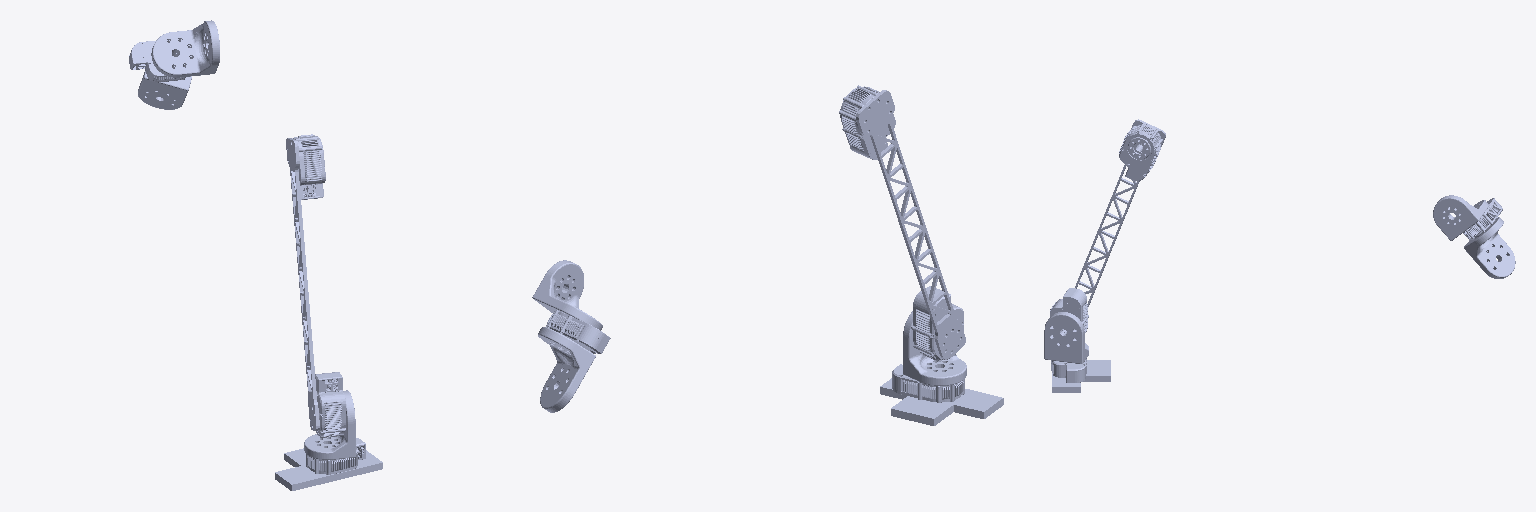
The robot description file, URDF, robot "Robot_assembly_gripper":
<?xml version="1.0" encoding="utf-8"?>
<!-- This URDF was automatically created by SolidWorks to URDF Exporter! Originally created by [author] ([email redacted]) 
     Commit Version: 1.6.0-1-g15f4949  Build Version: 1.6.7594.29634
     For more information, please see http://wiki.ros.org/sw_urdf_exporter -->
<robot
  name="Robot_assembly_gripper">
  <link
    name="base_link">
    <inertial>
      <origin
        xyz="0.267857494098026 0.134011022004072 0.0993771018542492"
        rpy="0 0 0" />
      <mass
        value="0.334978549466239" />
      <inertia
        ixx="0.000241093147767613"
        ixy="-4.51194118929295E-06"
        ixz="-5.1404451476027E-08"
        iyy="0.000463470554587157"
        iyz="-7.37057463032119E-08"
        izz="0.000692752126308934" />
    </inertial>
    <visual>
      <origin
        xyz="0 0 0"
        rpy="0 0 0" />
      <geometry>
        <mesh
          filename="package://basic134/meshes/base_link.STL" />
      </geometry>
      <material
        name="">
        <color
          rgba="0.792156862745098 0.819607843137255 0.933333333333333 1" />
      </material>
    </visual>
    <collision>
      <origin
        xyz="0 0 0"
        rpy="0 0 0" />
      <geometry>
        <mesh
          filename="package://basic134/meshes/base_link.STL" />
      </geometry>
    </collision>
  </link>
  <link
    name="link1">
    <inertial>
      <origin
        xyz="-0.000215974699123545 -0.000898328756616884 0.0160772624857307"
        rpy="0 0 0" />
      <mass
        value="0.408820372172434" />
      <inertia
        ixx="0.000337442602052258"
        ixy="1.2647095595665E-06"
        ixz="-5.59754092842708E-05"
        iyy="0.000365908027791502"
        iyz="1.66540333089424E-05"
        izz="0.000363778134561444" />
    </inertial>
    <visual>
      <origin
        xyz="0 0 0"
        rpy="0 0 0" />
      <geometry>
        <mesh
          filename="package://basic134/meshes/link1.STL" />
      </geometry>
      <material
        name="">
        <color
          rgba="0.792156862745098 0.819607843137255 0.933333333333333 1" />
      </material>
    </visual>
    <collision>
      <origin
        xyz="0 0 0"
        rpy="0 0 0" />
      <geometry>
        <mesh
          filename="package://basic134/meshes/link1.STL" />
      </geometry>
    </collision>
  </link>
  <joint
    name="link1"
    type="revolute">
    <origin
      xyz="0.2607 0.12618 0.11049"
      rpy="0 0 0" />
    <parent
      link="base_link" />
    <child
      link="link1" />
    <axis
      xyz="0 0 1" />
    <limit
      lower="0"
      upper="0"
      effort="0"
      velocity="0" />
  </joint>
  <link
    name="link2">
    <inertial>
      <origin
        xyz="-0.0092272068840536 -0.00086853648340196 0.0564152269571175"
        rpy="0 0 0" />
      <mass
        value="0.641026805757363" />
      <inertia
        ixx="0.000537404994155384"
        ixy="-6.60673300829398E-06"
        ixz="5.86491929414682E-05"
        iyy="0.00049633860154521"
        iyz="6.6066351399544E-06"
        izz="0.000453534999106879" />
    </inertial>
    <visual>
      <origin
        xyz="0 0 0"
        rpy="0 0 0" />
      <geometry>
        <mesh
          filename="package://basic134/meshes/link2.STL" />
      </geometry>
      <material
        name="">
        <color
          rgba="0.792156862745098 0.819607843137255 0.933333333333333 1" />
      </material>
    </visual>
    <collision>
      <origin
        xyz="0 0 0"
        rpy="0 0 0" />
      <geometry>
        <mesh
          filename="package://basic134/meshes/link2.STL" />
      </geometry>
    </collision>
  </link>
  <joint
    name="link2"
    type="fixed">
    <origin
      xyz="-0.0079917 0.00146 -0.011902"
      rpy="0 0 2.8538" />
    <parent
      link="link1" />
    <child
      link="link2" />
    <axis
      xyz="0 0 0" />
  </joint>
  <link
    name="link3">
    <inertial>
      <origin
        xyz="0.0152250000000007 -0.2406794491969 1.22124532708767E-15"
        rpy="0 0 0" />
      <mass
        value="0.0767858474939284" />
      <inertia
        ixx="0.00238516903039351"
        ixy="6.83650879640786E-18"
        ixz="5.42101086242752E-20"
        iyy="1.9180269485857E-05"
        iyz="-1.31023311073988E-07"
        izz="0.00236650479379691" />
    </inertial>
    <visual>
      <origin
        xyz="0 0 0"
        rpy="0 0 0" />
      <geometry>
        <mesh
          filename="package://basic134/meshes/link3.STL" />
      </geometry>
      <material
        name="">
        <color
          rgba="0.792156862745098 0.819607843137255 0.933333333333333 1" />
      </material>
    </visual>
    <collision>
      <origin
        xyz="0 0 0"
        rpy="0 0 0" />
      <geometry>
        <mesh
          filename="package://basic134/meshes/link3.STL" />
      </geometry>
    </collision>
  </link>
  <joint
    name="link3"
    type="revolute">
    <origin
      xyz="-7.7434E-05 -0.0008686 0.091902"
      rpy="-1.2203 0 0" />
    <parent
      link="link2" />
    <child
      link="link3" />
    <axis
      xyz="-1 0 0" />
    <limit
      lower="0"
      upper="0"
      effort="0"
      velocity="0" />
  </joint>
  <link
    name="link4">
    <inertial>
      <origin
        xyz="-0.0188514962883433 0.0938525862880993 -0.00122065965756527"
        rpy="0 0 0" />
      <mass
        value="0.308992204303723" />
      <inertia
        ixx="0.00258352619779536"
        ixy="-2.48879834899467E-07"
        ixz="-8.01819495875166E-08"
        iyy="0.000108937112554982"
        iyz="6.55543308158493E-06"
        izz="0.00249854049340643" />
    </inertial>
    <visual>
      <origin
        xyz="0 0 0"
        rpy="0 0 0" />
      <geometry>
        <mesh
          filename="package://basic134/meshes/link4.STL" />
      </geometry>
      <material
        name="">
        <color
          rgba="0.792156862745098 0.819607843137255 0.933333333333333 1" />
      </material>
    </visual>
    <collision>
      <origin
        xyz="0 0 0"
        rpy="0 0 0" />
      <geometry>
        <mesh
          filename="package://basic134/meshes/link4.STL" />
      </geometry>
    </collision>
  </link>
  <joint
    name="link4"
    type="fixed">
    <origin
      xyz="0.015225 -0.4775 0"
      rpy="0 0 0" />
    <parent
      link="link3" />
    <child
      link="link4" />
    <axis
      xyz="0 0 0" />
  </joint>
  <link
    name="link5">
    <inertial>
      <origin
        xyz="-0.194609657811397 -0.357306199284931 5.6621374255883E-15"
        rpy="0 0 0" />
      <mass
        value="0.0927282298042747" />
      <inertia
        ixx="0.00521684059122845"
        ixy="3.85696452532246E-18"
        ixz="-1.0842021724855E-19"
        iyy="2.3218055140328E-05"
        iyz="-1.9073169877161E-08"
        izz="0.00519424570842917" />
    </inertial>
    <visual>
      <origin
        xyz="0 0 0"
        rpy="0 0 0" />
      <geometry>
        <mesh
          filename="package://basic134/meshes/link5.STL" />
      </geometry>
      <material
        name="">
        <color
          rgba="0.792156862745098 0.819607843137255 0.933333333333333 1" />
      </material>
    </visual>
    <collision>
      <origin
        xyz="0 0 0"
        rpy="0 0 0" />
      <geometry>
        <mesh
          filename="package://basic134/meshes/link5.STL" />
      </geometry>
    </collision>
  </link>
  <joint
    name="link5"
    type="revolute">
    <origin
      xyz="0.14321 0.032 0"
      rpy="1.3414 0 0" />
    <parent
      link="link4" />
    <child
      link="link5" />
    <axis
      xyz="1 0 0" />
    <limit
      lower="0"
      upper="0"
      effort="0"
      velocity="0" />
  </joint>
  <link
    name="link6">
    <inertial>
      <origin
        xyz="0.0115000077719721 0.147438539818429 0.00112235859195009"
        rpy="0 0 0" />
      <mass
        value="0.252230038604757" />
      <inertia
        ixx="0.00535054298205387"
        ixy="-5.14033129248475E-08"
        ixz="-7.37078627787525E-08"
        iyy="7.97914651847604E-05"
        iyz="-4.59409130374559E-06"
        izz="0.00527865595451417" />
    </inertial>
    <visual>
      <origin
        xyz="0 0 0"
        rpy="0 0 0" />
      <geometry>
        <mesh
          filename="package://basic134/meshes/link6.STL" />
      </geometry>
      <material
        name="">
        <color
          rgba="0.792156862745098 0.819607843137255 0.933333333333333 1" />
      </material>
    </visual>
    <collision>
      <origin
        xyz="0 0 0"
        rpy="0 0 0" />
      <geometry>
        <mesh
          filename="package://basic134/meshes/link6.STL" />
      </geometry>
    </collision>
  </link>
  <joint
    name="link6"
    type="fixed">
    <origin
      xyz="-0.19461 -0.6775 0"
      rpy="0 0 0" />
    <parent
      link="link5" />
    <child
      link="link6" />
    <axis
      xyz="0 0 0" />
  </joint>
  <link
    name="link7">
    <inertial>
      <origin
        xyz="-0.000130288534892165 0.000920790745066791 0.0354068170810037"
        rpy="0 0 0" />
      <mass
        value="0.409613397509596" />
      <inertia
        ixx="0.000339928573716477"
        ixy="-6.68632878896225E-06"
        ixz="5.88061853623033E-05"
        iyy="0.000365197077247767"
        iyz="-8.02558084709898E-08"
        izz="0.000364462468927118" />
    </inertial>
    <visual>
      <origin
        xyz="0 0 0"
        rpy="0 0 0" />
      <geometry>
        <mesh
          filename="package://basic134/meshes/link7.STL" />
      </geometry>
      <material
        name="">
        <color
          rgba="0.792156862745098 0.819607843137255 0.933333333333333 1" />
      </material>
    </visual>
    <collision>
      <origin
        xyz="0 0 0"
        rpy="0 0 0" />
      <geometry>
        <mesh
          filename="package://basic134/meshes/link7.STL" />
      </geometry>
    </collision>
  </link>
  <joint
    name="link7"
    type="revolute">
    <origin
      xyz="0 0.032 0"
      rpy="1.5708 -0.70524 1.5708" />
    <parent
      link="link6" />
    <child
      link="link7" />
    <axis
      xyz="0 0 1" />
    <limit
      lower="0"
      upper="0"
      effort="0"
      velocity="0" />
  </joint>
  <link
    name="link8">
    <inertial>
      <origin
        xyz="-0.0235886510111271 0.000291555465911086 0.0501755583891659"
        rpy="0 0 0" />
      <mass
        value="0.569115198233791" />
      <inertia
        ixx="0.000473630955707207"
        ixy="-6.61262137680022E-06"
        ixz="5.88575893414097E-05"
        iyy="0.000449607313720566"
        iyz="-4.65527624133826E-06"
        izz="0.000421035879959335" />
    </inertial>
    <visual>
      <origin
        xyz="0 0 0"
        rpy="0 0 0" />
      <geometry>
        <mesh
          filename="package://basic134/meshes/link8.STL" />
      </geometry>
      <material
        name="">
        <color
          rgba="0.792156862745098 0.819607843137255 0.933333333333333 1" />
      </material>
    </visual>
    <collision>
      <origin
        xyz="0 0 0"
        rpy="0 0 0" />
      <geometry>
        <mesh
          filename="package://basic134/meshes/link8.STL" />
      </geometry>
    </collision>
  </link>
  <joint
    name="link8"
    type="fixed">
    <origin
      xyz="0.0080774 0.0008686 0.0073225"
      rpy="0 0 0" />
    <parent
      link="link7" />
    <child
      link="link8" />
    <axis
      xyz="0 0 0" />
  </joint>
  <link
    name="link9">
    <inertial>
      <origin
        xyz="-0.00013027915729813 0.000920791172653312 0.0803092442556865"
        rpy="0 0 0" />
      <mass
        value="0.409613320666264" />
      <inertia
        ixx="0.000339928492220774"
        ixy="-6.68637100854192E-06"
        ixz="5.88062087022453E-05"
        iyy="0.000365197131396319"
        iyz="-8.02731373553025E-08"
        izz="0.000364462456256996" />
    </inertial>
    <visual>
      <origin
        xyz="0 0 0"
        rpy="0 0 0" />
      <geometry>
        <mesh
          filename="package://basic134/meshes/link9.STL" />
      </geometry>
      <material
        name="">
        <color
          rgba="0.792156862745098 0.819607843137255 0.933333333333333 1" />
      </material>
    </visual>
    <collision>
      <origin
        xyz="0 0 0"
        rpy="0 0 0" />
      <geometry>
        <mesh
          filename="package://basic134/meshes/link9.STL" />
      </geometry>
    </collision>
  </link>
  <joint
    name="link9"
    type="revolute">
    <origin
      xyz="0 -0.0008686 0.091902"
      rpy="-1.5708 0.40899 1.5708" />
    <parent
      link="link8" />
    <child
      link="link9" />
    <axis
      xyz="0 0 1" />
    <limit
      lower="0"
      upper="0"
      effort="0"
      velocity="0" />
  </joint>
  <link
    name="link10">
    <inertial>
      <origin
        xyz="-0.00323354099177331 -0.00392762942961489 -0.00361444135571398"
        rpy="0 0 0" />
      <mass
        value="2.05264806100588" />
      <inertia
        ixx="0.00102424628669426"
        ixy="-3.22645731448597E-05"
        ixz="-5.92808550746498E-05"
        iyy="0.00116807049539813"
        iyz="3.76130461632427E-05"
        izz="0.0016508265788843" />
    </inertial>
    <visual>
      <origin
        xyz="0 0 0"
        rpy="0 0 0" />
      <geometry>
        <mesh
          filename="package://basic134/meshes/link10.STL" />
      </geometry>
      <material
        name="">
        <color
          rgba="0.752941176470588 0.752941176470588 0.752941176470588 1" />
      </material>
    </visual>
    <collision>
      <origin
        xyz="0 0 0"
        rpy="0 0 0" />
      <geometry>
        <mesh
          filename="package://basic134/meshes/link10.STL" />
      </geometry>
    </collision>
  </link>
  <joint
    name="link10"
    type="fixed">
    <origin
      xyz="-0.055 0 0.14413"
      rpy="3.1416 -1.5708 0" />
    <parent
      link="link9" />
    <child
      link="link10" />
    <axis
      xyz="0 0 0" />
  </joint>
</robot>

--- Facts derived from the render (not from the file) ---
The picture shows the robot from 3 angles, left to right: view 1: azimuth 30°, elevation 25°; view 2: azimuth 150°, elevation 25°; view 3: azimuth 270°, elevation 25°; orthographic projection.
Robot: Robot_assembly_gripper — 11 links, 10 joints (5 revolute, 5 fixed); root link base_link; default pose: every joint at zero.
Visible links, largest first — view 1: link8, base_link, link3, link2, link4, link9, link1; view 2: link3, base_link, link8, link2, link9, link4; view 3: link8, link2, link4, link9, base_link, link3, link1.
Link boxes in pixels (<box>): link8: <box>129,20,219,82</box>; base_link: <box>275,438,382,490</box>; link3: <box>286,138,319,430</box>; link2: <box>304,372,354,452</box>; link4: <box>287,134,325,428</box>; link9: <box>138,69,191,109</box>; link1: <box>305,397,355,459</box>; link3: <box>856,90,965,359</box>; base_link: <box>880,364,1003,425</box>; link8: <box>532,260,610,353</box>; link2: <box>903,286,966,385</box>; link9: <box>538,327,595,412</box>; link4: <box>839,85,957,349</box>; link8: <box>1433,195,1502,240</box>; link2: <box>1045,288,1088,363</box>; link4: <box>1085,121,1164,274</box>; link9: <box>1464,217,1515,278</box>; base_link: <box>1051,359,1110,392</box>; link3: <box>1075,119,1165,306</box>; link1: <box>1044,313,1081,363</box>.
Bounding box of the posed robot: 0.3247 × 0.9385 × 0.565 m (x, y, z).
Meshes: 11 distinct files referenced, 7 mesh visuals loaded (7 binary STL); not drawn: 4 (file found but could not be loaded).
